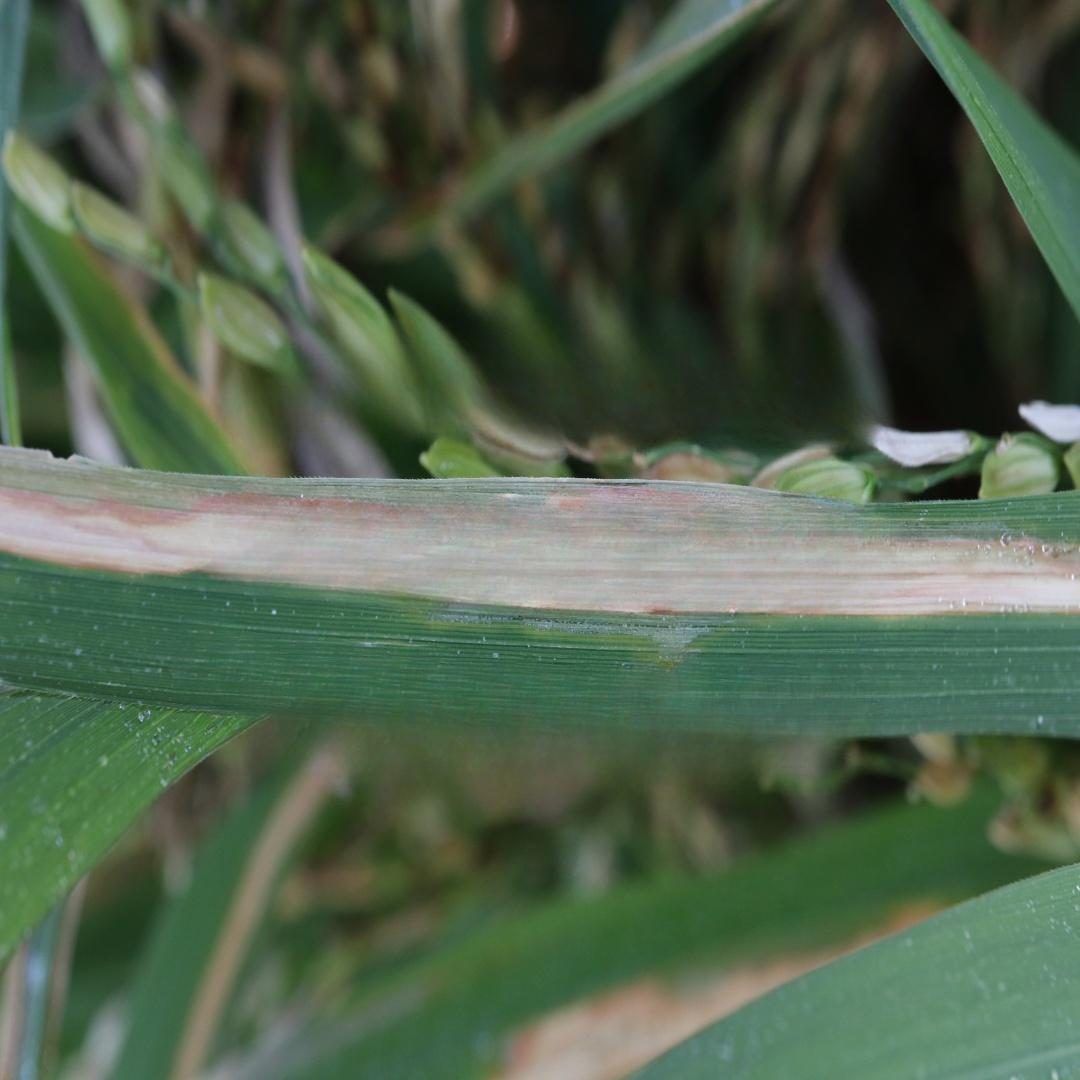BLB: (2, 480, 1079, 615)
LEAF: (0, 448, 1079, 734)
